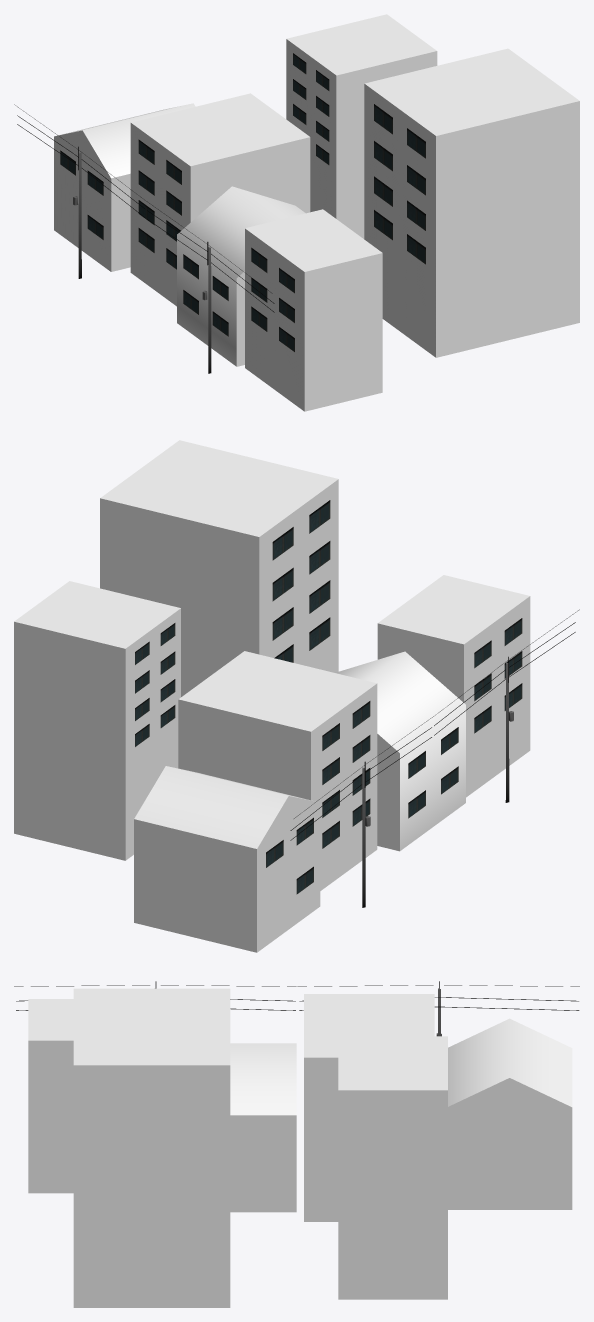
3 views of the same model, one above another, from view 1: azimuth 30°, elevation 25°; view 2: azimuth 150°, elevation 25°; view 3: azimuth 270°, elevation 25° (orthographic). The views are drawn at different scales.
Parts seen in each view (by area): view 1: obj117, obj114, obj112, obj118, obj113, black_bg1, obj116, obj115; view 2: obj117, obj118, black_bg1, obj112, obj114, obj113, obj115, obj116; view 3: obj117, obj118, black_bg1, obj112, obj113, obj114, obj115.
Boxes of the visible parts, x1=… form: obj117: x1=364, y1=48, x2=579, y2=357; obj114: x1=245, y1=209, x2=382, y2=411; obj112: x1=130, y1=93, x2=310, y2=306; obj118: x1=286, y1=14, x2=437, y2=238; obj113: x1=177, y1=186, x2=305, y2=366; black_bg1: x1=54, y1=103, x2=195, y2=271; obj116: x1=144, y1=199, x2=274, y2=373; obj115: x1=14, y1=104, x2=144, y2=278; obj117: x1=100, y1=440, x2=338, y2=696; obj118: x1=14, y1=581, x2=180, y2=860; black_bg1: x1=134, y1=766, x2=320, y2=952; obj112: x1=178, y1=651, x2=377, y2=890; obj114: x1=377, y1=575, x2=530, y2=797; obj113: x1=335, y1=651, x2=465, y2=851; obj115: x1=290, y1=715, x2=435, y2=907; obj116: x1=434, y1=609, x2=579, y2=802; obj117: x1=73, y1=988, x2=230, y2=1307; obj118: x1=338, y1=1036, x2=447, y2=1299; black_bg1: x1=448, y1=1018, x2=572, y2=1209; obj112: x1=304, y1=994, x2=434, y2=1221; obj113: x1=230, y1=1043, x2=296, y2=1212; obj114: x1=28, y1=999, x2=73, y2=1193; obj115: x1=297, y1=981, x2=579, y2=1036.
Size of the model in its own units: 76.42 by 48.35 by 101.
14 materials, 14 textured.
